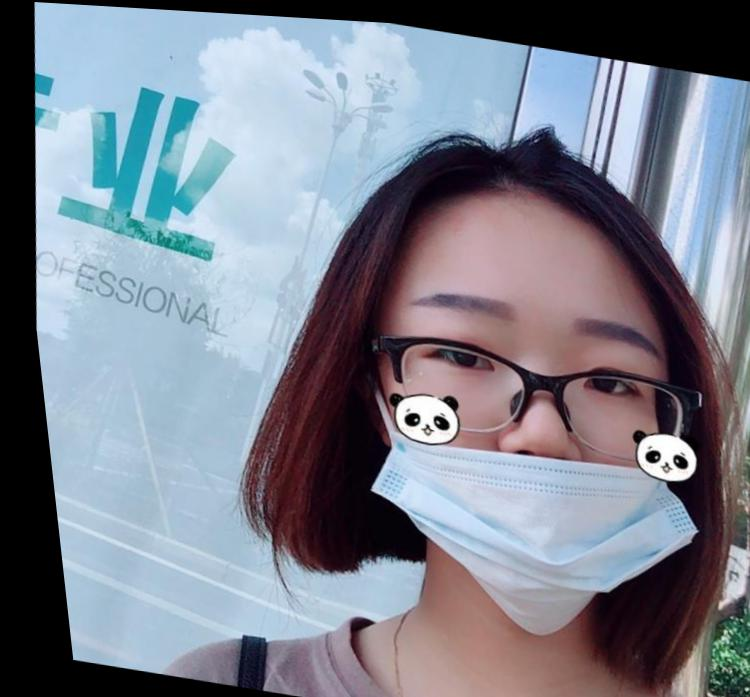WRONG: (331, 223, 703, 626)
